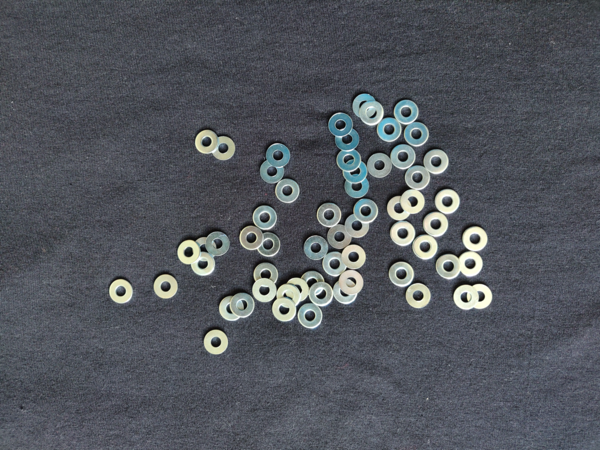circle: (202, 327, 230, 358), (406, 282, 435, 311), (190, 235, 219, 263), (218, 294, 245, 323), (387, 262, 416, 289), (434, 253, 461, 282), (211, 134, 237, 164), (258, 159, 286, 186), (451, 283, 478, 311), (461, 225, 489, 252), (412, 236, 440, 263), (266, 140, 292, 169), (403, 166, 432, 192), (275, 178, 302, 205), (297, 303, 324, 330), (332, 279, 359, 306), (434, 189, 461, 216), (205, 230, 231, 258), (230, 292, 256, 320), (326, 112, 354, 138), (456, 252, 484, 278), (367, 153, 395, 179), (316, 202, 345, 227), (467, 281, 492, 310), (194, 129, 220, 156), (424, 212, 450, 239), (404, 121, 430, 148), (107, 280, 135, 305), (344, 214, 372, 239), (333, 127, 361, 152), (352, 92, 377, 120), (191, 252, 217, 278), (253, 262, 279, 288), (353, 198, 379, 224), (344, 174, 370, 200), (389, 221, 415, 247), (400, 189, 426, 215), (326, 224, 353, 249), (385, 196, 412, 221), (391, 145, 416, 172), (154, 275, 179, 301), (253, 204, 278, 230), (342, 158, 368, 183), (423, 150, 449, 175), (240, 225, 264, 252), (271, 298, 298, 322), (285, 276, 309, 303), (337, 148, 364, 172), (251, 280, 279, 303), (176, 240, 201, 265), (394, 100, 419, 125), (275, 284, 301, 308), (300, 272, 324, 298), (323, 251, 347, 277), (309, 283, 334, 307), (344, 245, 368, 270), (305, 236, 329, 261), (339, 271, 365, 294), (258, 233, 282, 257), (378, 119, 403, 142), (360, 102, 384, 125)
